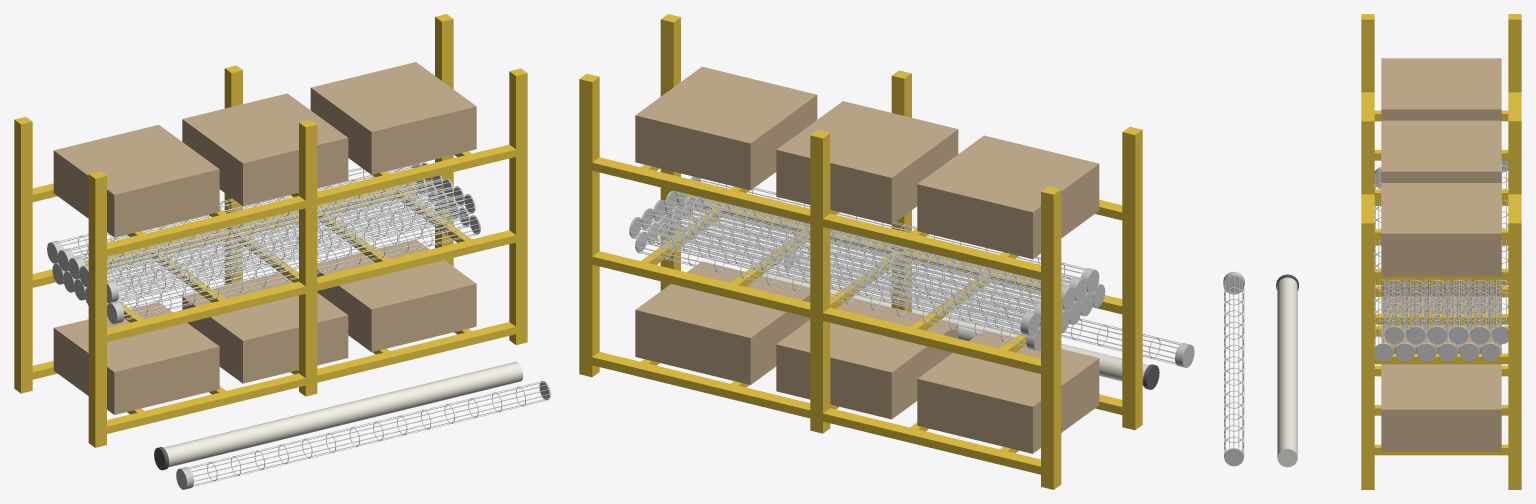
File: SM_BaghouseSpares.fbx
3 views of the same model, side by side, from view 1: azimuth 30°, elevation 25°; view 2: azimuth 150°, elevation 25°; view 3: azimuth 270°, elevation 25° (orthographic). The views are drawn at different scales.
Visible parts, largest first — view 1: BH_BagBoxes, BH_Rack, BH_Cages_Stack, BH_FilterBag_Single, BH_FilterCage_Single; view 2: BH_BagBoxes, BH_Rack, BH_Cages_Stack, BH_FilterBag_Single, BH_FilterCage_Single; view 3: BH_BagBoxes, BH_Rack, BH_Cages_Stack, BH_FilterBag_Single, BH_FilterCage_Single.
Part boxes in pixels (box(x1,y1,x2,y2)): BH_BagBoxes: box(53, 62, 476, 414); BH_Rack: box(14, 14, 527, 447); BH_Cages_Stack: box(47, 162, 480, 324); BH_FilterBag_Single: box(154, 361, 523, 470); BH_FilterCage_Single: box(176, 381, 550, 489); BH_BagBoxes: box(635, 66, 1099, 453); BH_Rack: box(579, 14, 1142, 489); BH_Cages_Stack: box(629, 176, 1105, 350); BH_FilterBag_Single: box(762, 272, 1159, 389); BH_FilterCage_Single: box(784, 251, 1194, 367); BH_BagBoxes: box(1381, 58, 1501, 451); BH_Rack: box(1361, 14, 1521, 489); BH_Cages_Stack: box(1374, 149, 1508, 361); BH_FilterBag_Single: box(1276, 274, 1298, 467); BH_FilterCage_Single: box(1223, 271, 1244, 466).
Size of the model in its own units: 370 by 221 by 223.
